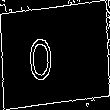O_N: (42, 28, 68, 82)
